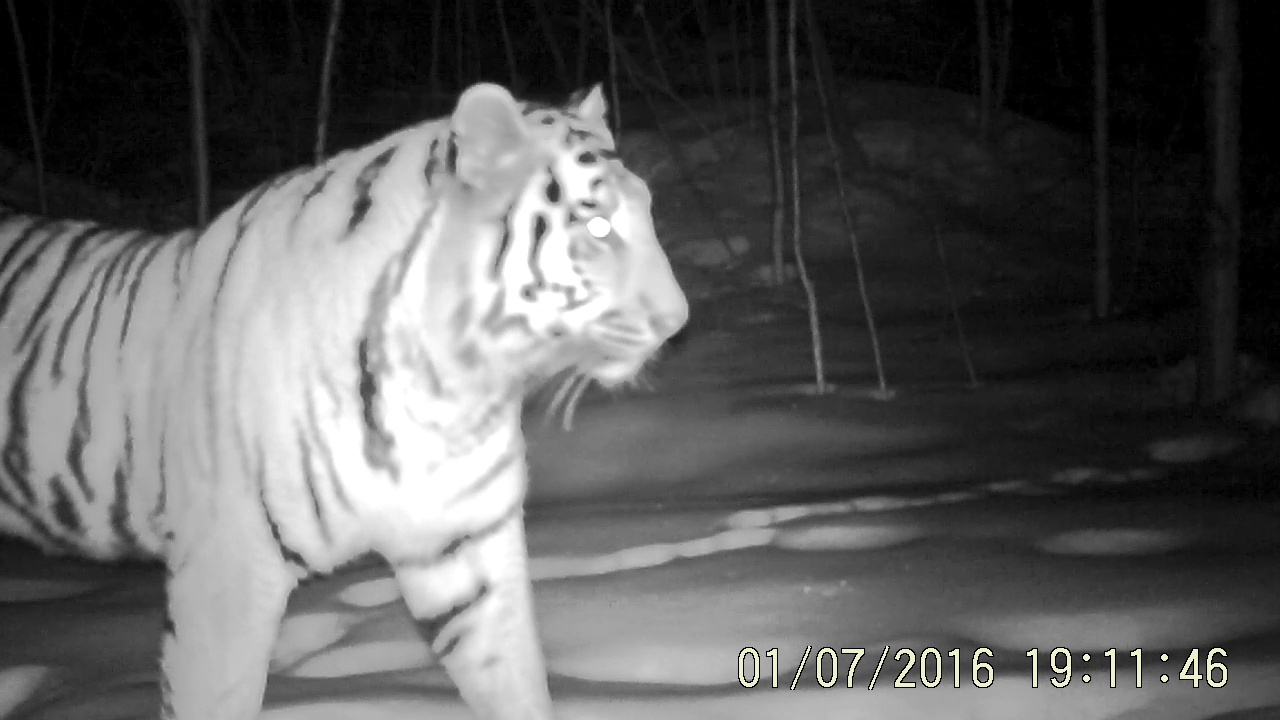Tiger: (2, 1, 724, 720)
